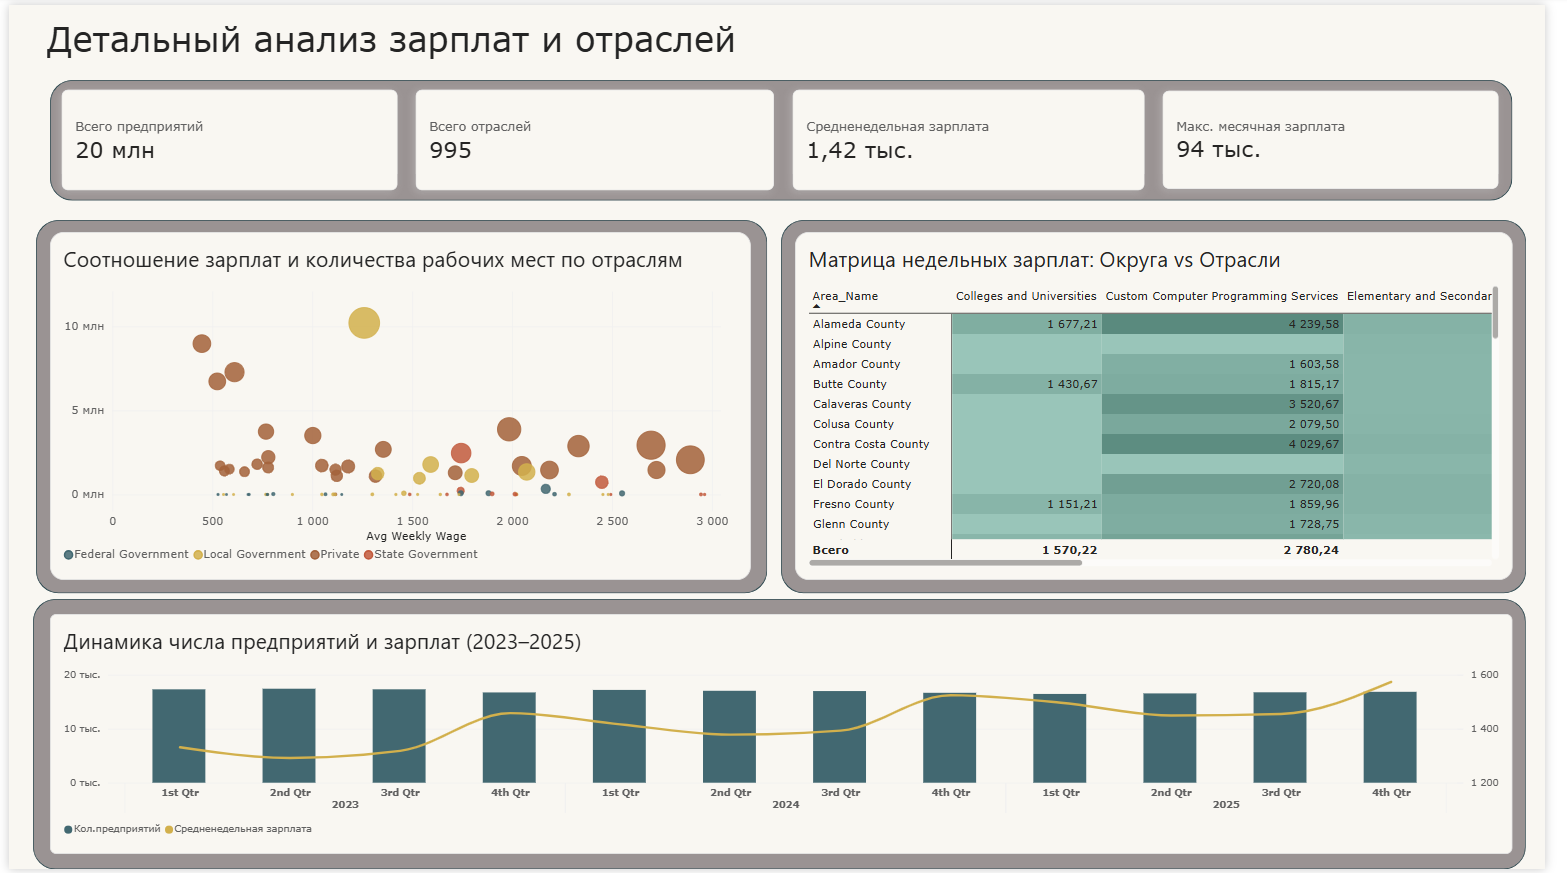

The dashboard page shown, as its layout file describes it:
{"tool":"powerbi","page":{"name":"Part 2 (Russian version)","canvas":[1920,1080],"ordinal":1},"visuals":[{"type":"shape","box":[964.8,268.2,931.4,466.5],"z":0},{"type":"shape","box":[33.3,268.2,914,466.5],"z":1000},{"type":"shape","box":[30.1,742.6,1866,338],"z":2000},{"type":"shape","box":[50.8,93.6,1828,150.7],"z":3000},{"type":"scatterChart","title":"Соотношение зарплат и количества рабочих мест по отраслям","fields":{"Category":["Dim_Industry.Industry_Name"],"Series":["Fact_Employment_Wages.Ownership"],"Size":["_Measures.Total Wages"],"X":["_Measures.Avg Weekly Wage"],"Y":["_Measures.Total Employment"]},"box":[50.8,284,875.9,434.8],"z":4000},{"type":"lineClusteredColumnComboChart","title":"Динамика числа предприятий и зарплат (2023–2025)","fields":{"Category":["Dim_Date.Year","Dim_Date.Time_Period"],"Y":["CountNonNull(Fact_Employment_Wages.Establishments)"],"Y2":["_Measures.Avg Weekly Wage"]},"box":[50.8,761.7,1828,299.9],"z":5000},{"type":"pivotTable","title":"Матрица недельных зарплат: Округа vs Отрасли","fields":{"Columns":["Dim_Industry.Industry_Name"],"Rows":["Dim_Geography.Area_Name"],"Values":["_Measures.Avg Weekly Wage"]},"box":[982.2,284,896.5,434.8],"z":6000},{"type":"cardVisual","fields":{"Data":["_Measures.Max Weekly Wage"]},"box":[1430.4,95.1,444.3,147.6],"z":7000},{"type":"cardVisual","fields":{"Data":["_Measures.Avg Weekly Wage"]},"box":[967.5,93.5,464.9,150.7],"z":8000},{"type":"cardVisual","fields":{"Data":["CountNonNull(Dim_Industry.Industry_Name)"]},"box":[496.6,93.5,472.9,150.7],"z":9000},{"type":"cardVisual","fields":{"Data":["Sum(Fact_Employment_Wages.Establishments)"]},"box":[54.4,93.5,444.3,150.7],"z":10000},{"type":"textbox","box":[48,16,880,64],"z":11000}]}

Visuals, with their boxes in screenshot pixels (x1, y1, x2, y2), scaled from the page's 1920x1080 canvas onto the 1567x873 screenshot:
shape: [787, 217, 1548, 594]
shape: [27, 217, 773, 594]
shape: [25, 600, 1547, 872]
shape: [41, 76, 1533, 197]
"Соотношение зарплат и количества рабочих мест по отраслям" scatterChart: [41, 230, 756, 581]
"Динамика числа предприятий и зарплат (2023–2025)" lineClusteredColumnComboChart: [41, 616, 1533, 858]
"Матрица недельных зарплат: Округа vs Отрасли" pivotTable: [802, 230, 1533, 581]
cardVisual - _Measures.Max Weekly Wage: [1167, 77, 1530, 196]
cardVisual - _Measures.Avg Weekly Wage: [790, 76, 1169, 197]
cardVisual - CountNonNull(Dim_Industry.Industry_Name): [405, 76, 791, 197]
cardVisual - Sum(Fact_Employment_Wages.Establishments): [44, 76, 407, 197]
textbox: [39, 13, 757, 65]
